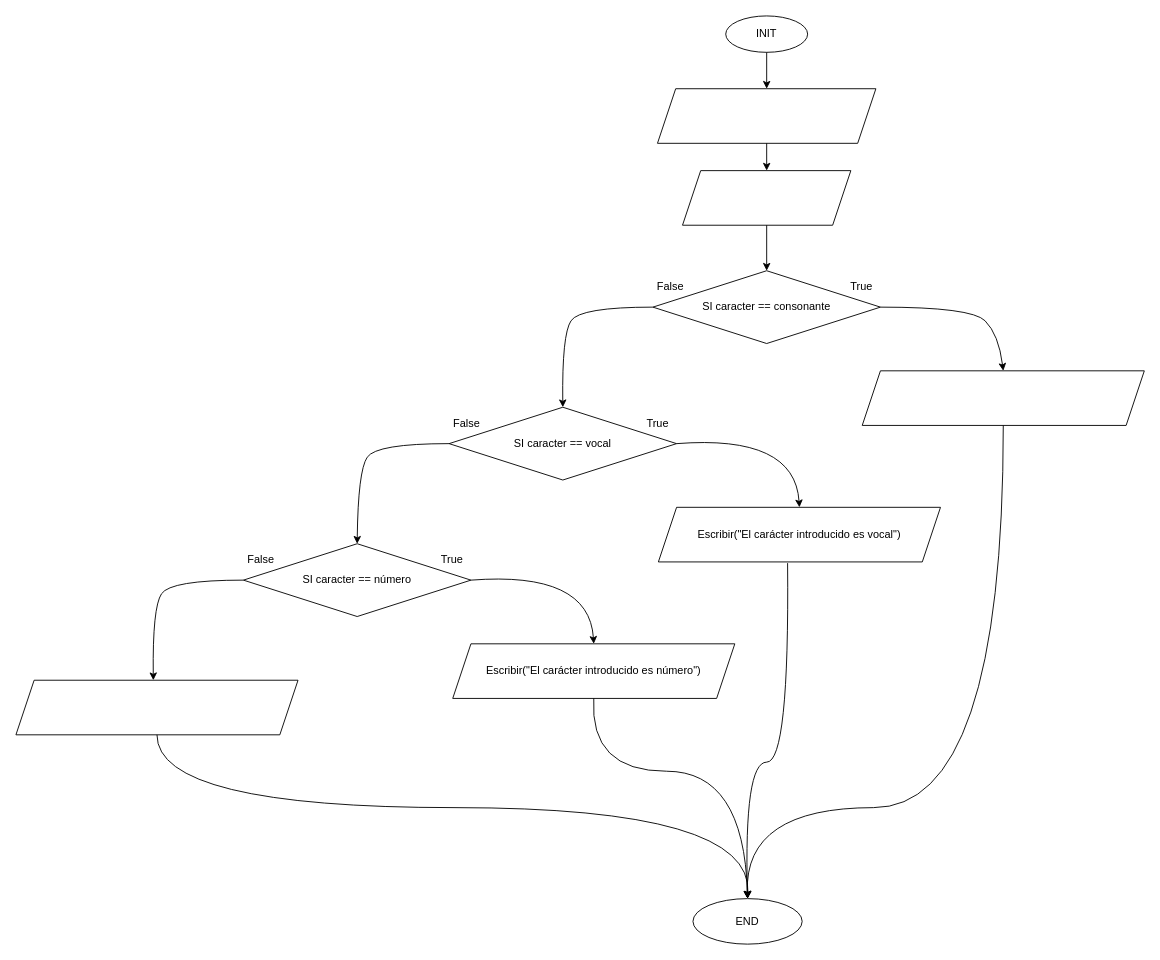
This 1160x960 diagram has some shape labels left out. Each missing label, with the centre of its shape:
Escribir ("Introduce un caracter"): (x=766, y=115)
Escribir("El carácter introducido es consonante"): (x=1002, y=397)
Escribir("El carácter introducido no corresponde con ningún tipo"): (x=156, y=707)
Leer (caracter): (x=766, y=197)
